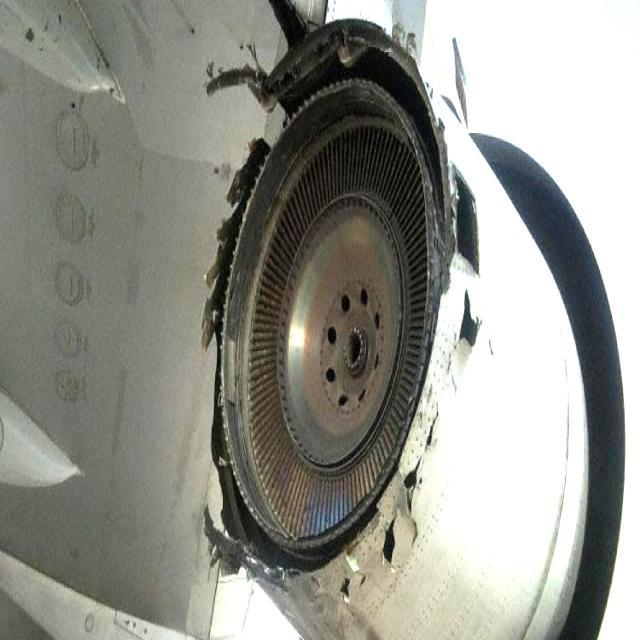crack: (336, 280, 489, 615)
